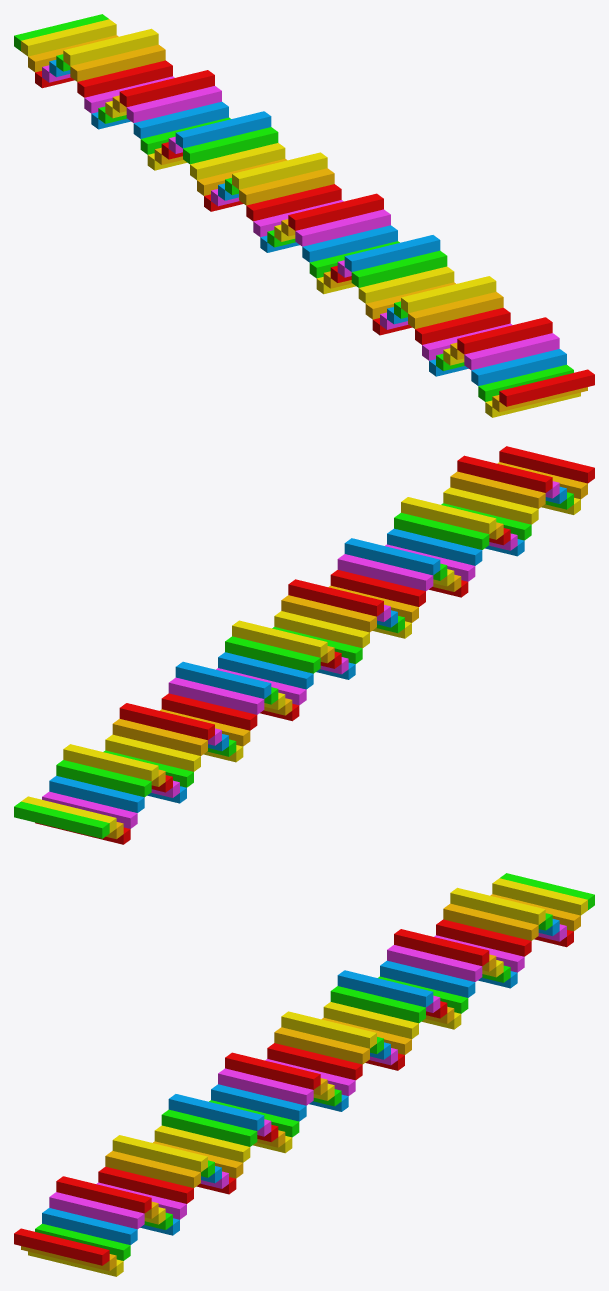
Rendered from lestnica5.fbx.
The picture shows the model from 3 angles, top to bottom: view 1: azimuth 30°, elevation 25°; view 2: azimuth 150°, elevation 25°; view 3: azimuth 330°, elevation 25°; orthographic projection.
Parts seen in each view (by area): view 1: Cube.011; view 2: Cube.011; view 3: Cube.011.
Part boxes in pixels (x1=…): Cube.011: x1=14, y1=14, x2=594, y2=417; Cube.011: x1=14, y1=446, x2=594, y2=844; Cube.011: x1=14, y1=873, x2=594, y2=1276.
Bounding box in the file's own units: 669 × 386 × 6452.
